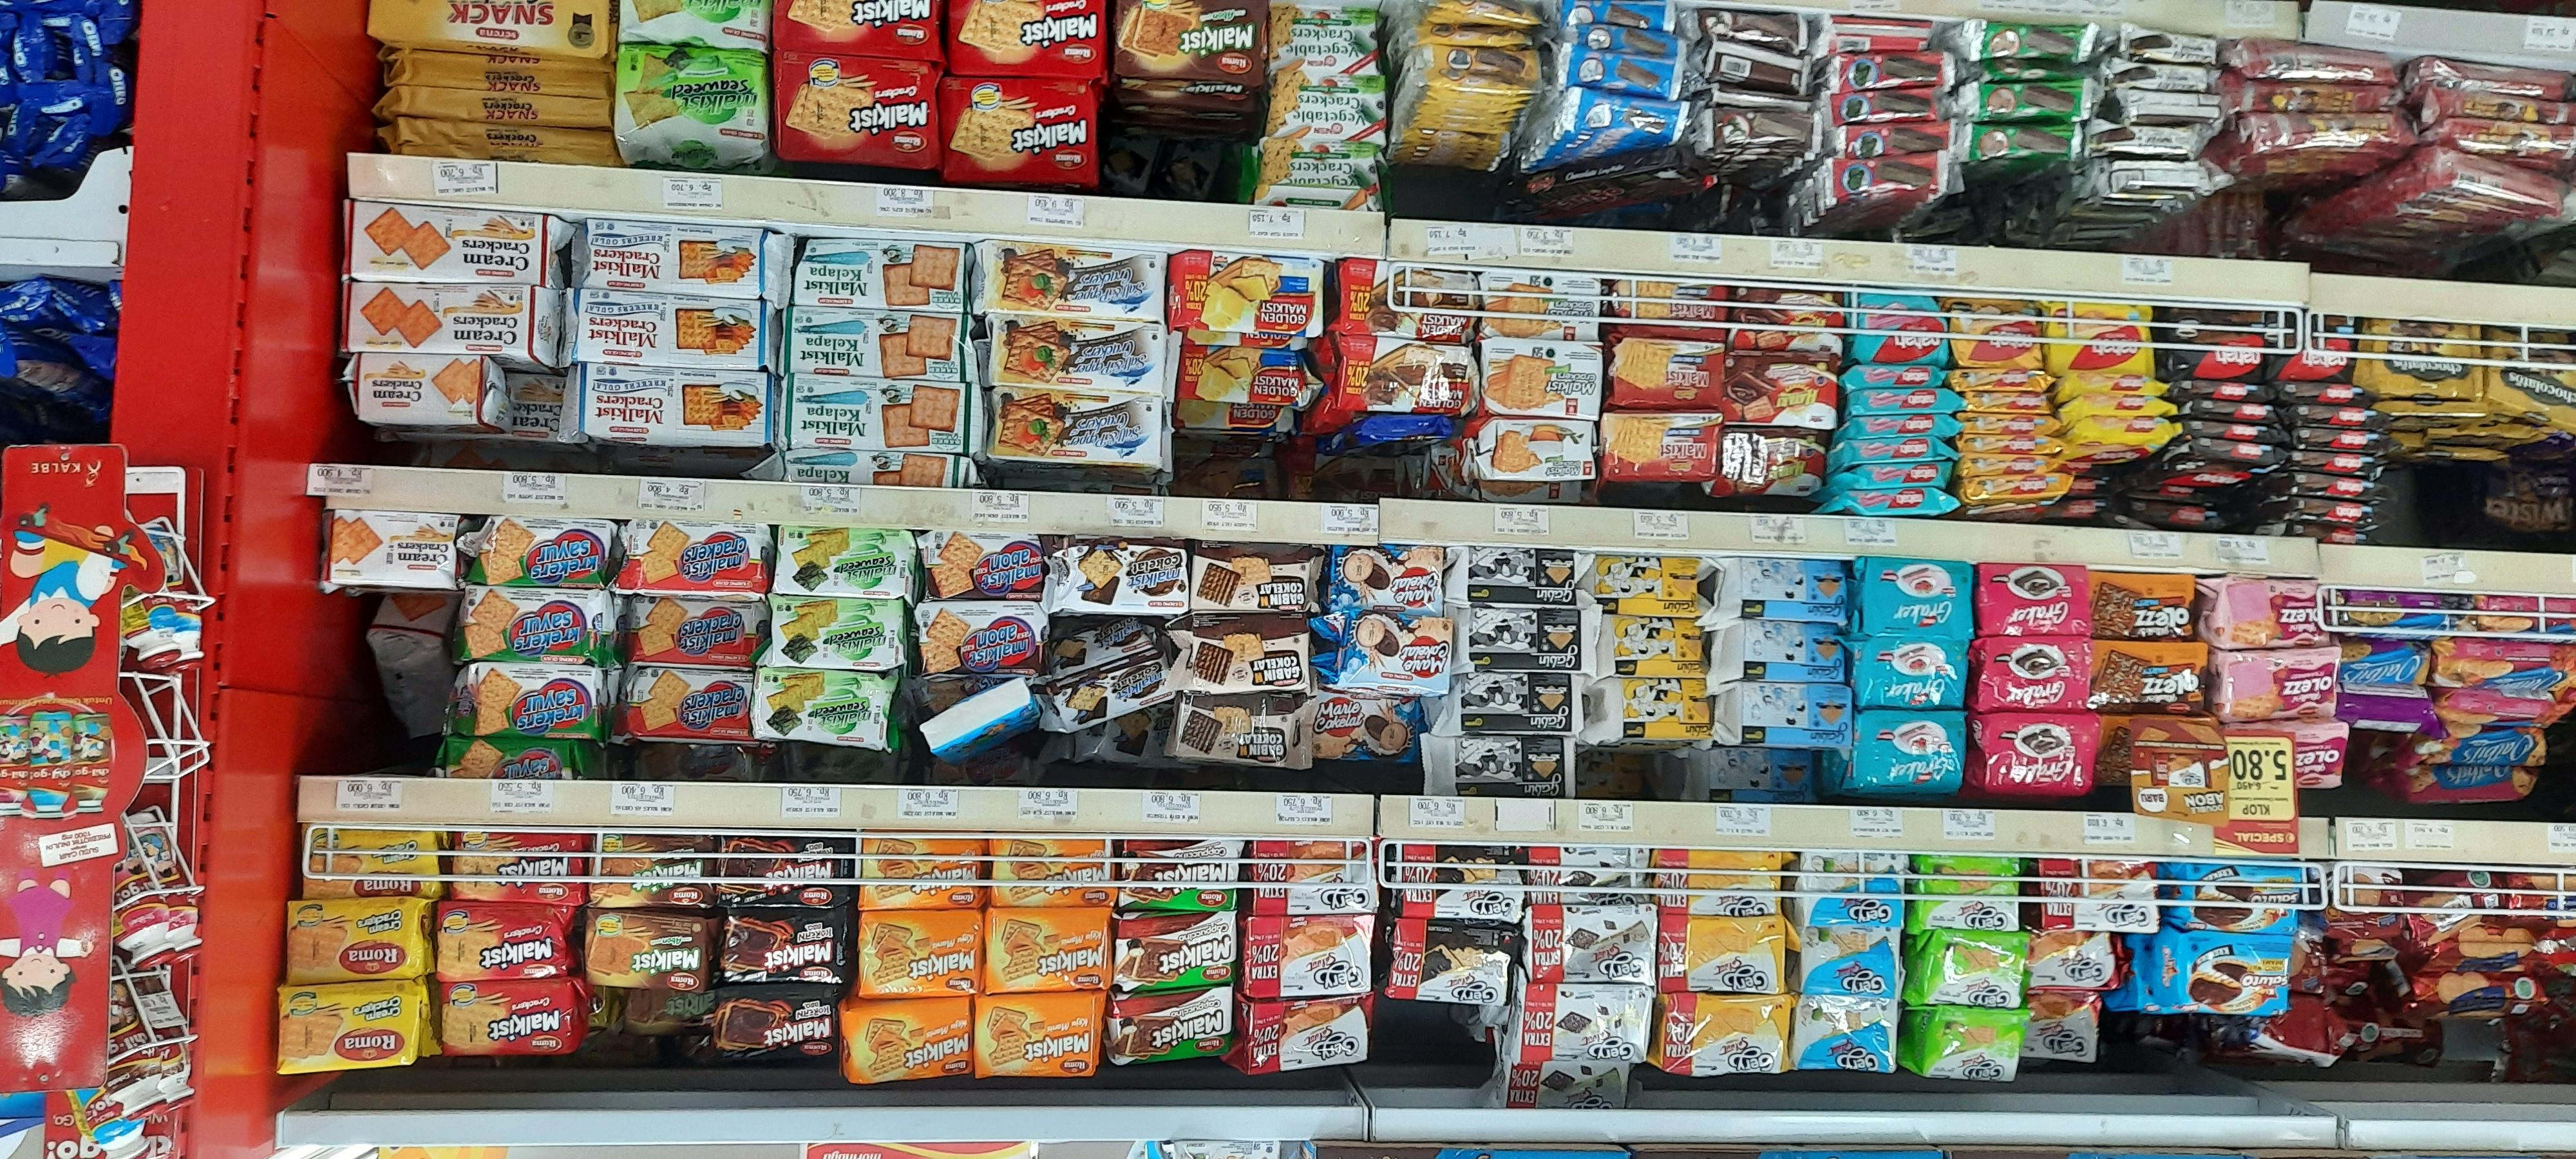90101225202101: (1383, 923, 1508, 1010), (1390, 839, 1521, 919)
90101225205101: (1651, 916, 1789, 1001), (1654, 987, 1792, 1070), (1646, 854, 1789, 921)
90101225209100: (1792, 929, 1902, 1000), (1794, 998, 1902, 1069), (1797, 854, 1907, 923)
90101225212100: (1901, 929, 2034, 1003), (1909, 854, 2027, 929), (1907, 1006, 2027, 1080)
90101225218101: (1521, 973, 1646, 1065), (1520, 903, 1656, 985), (1526, 844, 1644, 903)
90101225226101: (1244, 914, 1375, 998), (1249, 839, 1382, 921), (1237, 995, 1368, 1077)
ChocolatorOriginal: (2353, 327, 2486, 401)
HatariCoklat: (1723, 355, 1838, 430), (1720, 427, 1835, 502), (1725, 284, 1837, 350)
KokolaOlezzChocoParty: (2091, 642, 2208, 717), (2088, 571, 2196, 642)
KokolaOlezzStrawberry: (2200, 576, 2334, 647), (2215, 652, 2349, 722)
KongGuanCrackersGula: (575, 363, 780, 447), (572, 289, 784, 369), (577, 223, 779, 297)
KongGuanCrackersKelapa: (790, 230, 971, 315), (787, 307, 974, 379), (785, 374, 973, 445)
KongGuanCreanCrackers: (337, 200, 565, 287), (345, 282, 572, 358), (343, 353, 509, 437), (317, 511, 462, 593)
KongGuanKrekersSayur: (445, 660, 616, 737), (457, 584, 616, 663), (467, 514, 618, 588)
KongGuanMalkistAbon: (920, 601, 1045, 676), (922, 529, 1043, 599)
KongGuanMalkistCokelat: (1051, 552, 1186, 619)
KongGuanMalkistCrackers: (619, 520, 772, 599), (623, 588, 775, 667), (619, 662, 757, 740)
KongGuanMalkistSeaWeed: (616, 43, 766, 161), (751, 667, 905, 752), (766, 591, 918, 671), (774, 520, 927, 599)
KongGuanMarieSalutCoklat: (1313, 617, 1457, 686), (1311, 696, 1428, 768), (1321, 547, 1452, 609)
KongGuanSalt&PepperCrackers: (984, 317, 1178, 397), (982, 243, 1175, 323), (987, 389, 1180, 470)
Malkist: (1607, 340, 1723, 409), (1603, 412, 1720, 481), (1610, 281, 1727, 335)
NabatiCokelat: (2264, 317, 2362, 384), (2165, 310, 2264, 376)
NabatiGrackerRichberry: (1851, 557, 1975, 639), (1850, 711, 1973, 791), (1855, 640, 1968, 708)
NabatiGrackerRichoco: (1971, 714, 2100, 793), (1975, 639, 2091, 711), (1973, 565, 2090, 637)
NabatiKeju: (2044, 299, 2155, 374)
NabatiLavaPink: (1856, 297, 1945, 361)
NabatiSusu: (1945, 299, 2040, 371)
NissinGabinCokelat: (1170, 689, 1306, 767), (1176, 619, 1311, 694), (1186, 552, 1324, 612)
NissinGabinKeju: (1597, 614, 1710, 680), (1602, 680, 1715, 745), (1594, 558, 1707, 622)
NissinGabinOriginal: (1451, 545, 1602, 609), (1449, 607, 1600, 671), (1436, 673, 1587, 737), (1424, 735, 1576, 799)
NissinGabinSusu: (1712, 680, 1855, 747), (1705, 563, 1848, 619), (1707, 625, 1848, 681)
NissinGoldenMalkistCokelat: (1332, 261, 1475, 346), (1342, 335, 1482, 414)
NissinGoldenMalkistMentega: (1171, 250, 1324, 338), (1181, 346, 1321, 407)
NissinVegetableCrackers: (1265, 74, 1390, 136), (1263, 11, 1390, 72), (1247, 140, 1373, 184)
RomaMalkistAbon: (1112, 0, 1273, 123), (582, 916, 713, 988), (591, 832, 724, 903)
RomaMalkistCappuccino: (1111, 908, 1237, 993), (1109, 988, 1234, 1072), (1115, 836, 1239, 911)
RomaMalkistCrackers: (772, 56, 941, 179), (946, 74, 1101, 187), (437, 896, 578, 985), (439, 975, 586, 1054), (444, 824, 591, 903)
RomaMalkistCreamCrackers: (271, 980, 429, 1072), (283, 896, 429, 985), (302, 826, 440, 893)
RomaMalkistKeju: (987, 906, 1109, 992), (849, 995, 969, 1080), (973, 993, 1094, 1077), (859, 909, 981, 993), (861, 829, 981, 913), (991, 827, 1111, 911)
RomaMalkistKorean: (718, 914, 846, 993), (706, 988, 835, 1067), (721, 829, 849, 908)
UbmMalkistCrackers: (1479, 335, 1607, 422), (1479, 268, 1602, 341), (1467, 415, 1595, 486)
